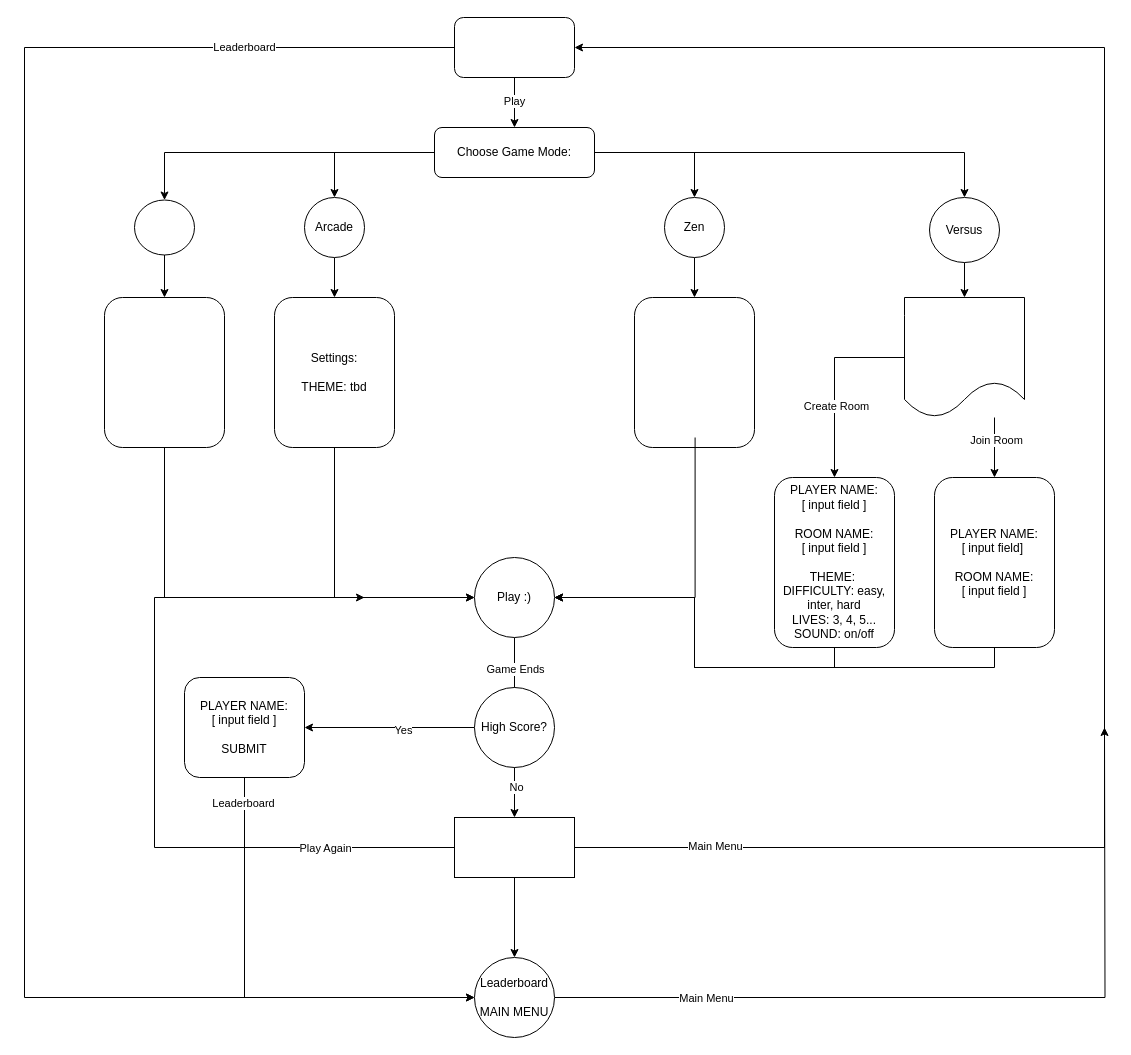
Image size: 1131x1055. Some labels were removed from this diagram. Here are the shapes that lost their labels. From the top down, the centre of each, then its label:
At (514,47): "Title Screen PLAY LEADERBOARD".
At (164,227): "Casual".
At (164,372): "Settings: THEME: tbd DIFFICULTY: easy, intermediate, hard TIMER: on/off".
At (694,372): "Settings: THEME: tbd SOUND: on/off GRID SIZE: 12, 20, 30".
At (964,357): "PLAYER NAME: [ input field ] CREATE ROOM JOIN ROOM".
At (514,847): "Play Again? Main Menu Leaderboard".
